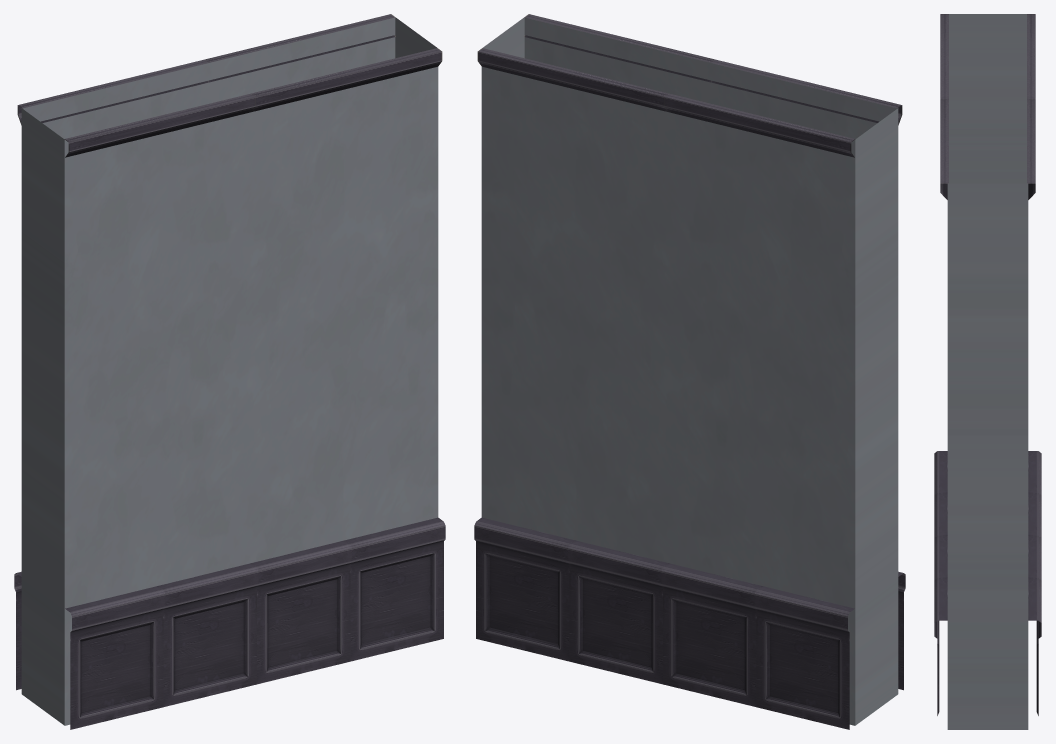
The model's file is Ev_company_inner_shell_moldingwall.fbx.
The picture shows the model from 3 angles, left to right: view 1: azimuth 30°, elevation 25°; view 2: azimuth 150°, elevation 25°; view 3: azimuth 270°, elevation 25°; orthographic projection. The views are drawn at different scales.
Visible parts, largest first — view 1: Ev_company_inner_shell_wall, Ev_company_inner_shell_wall_molding; view 2: Ev_company_inner_shell_wall, Ev_company_inner_shell_wall_molding; view 3: Ev_company_inner_shell_wall, Ev_company_inner_shell_wall_molding.
Boxes of the visible parts, bbox=[...] form: Ev_company_inner_shell_wall: bbox=[21, 17, 438, 725]; Ev_company_inner_shell_wall_molding: bbox=[14, 14, 445, 729]; Ev_company_inner_shell_wall: bbox=[481, 17, 898, 725]; Ev_company_inner_shell_wall_molding: bbox=[474, 14, 905, 729]; Ev_company_inner_shell_wall: bbox=[947, 14, 1028, 729]; Ev_company_inner_shell_wall_molding: bbox=[934, 14, 1041, 715].
Bounding box in the file's own units: 200 × 300 × 53.36.
